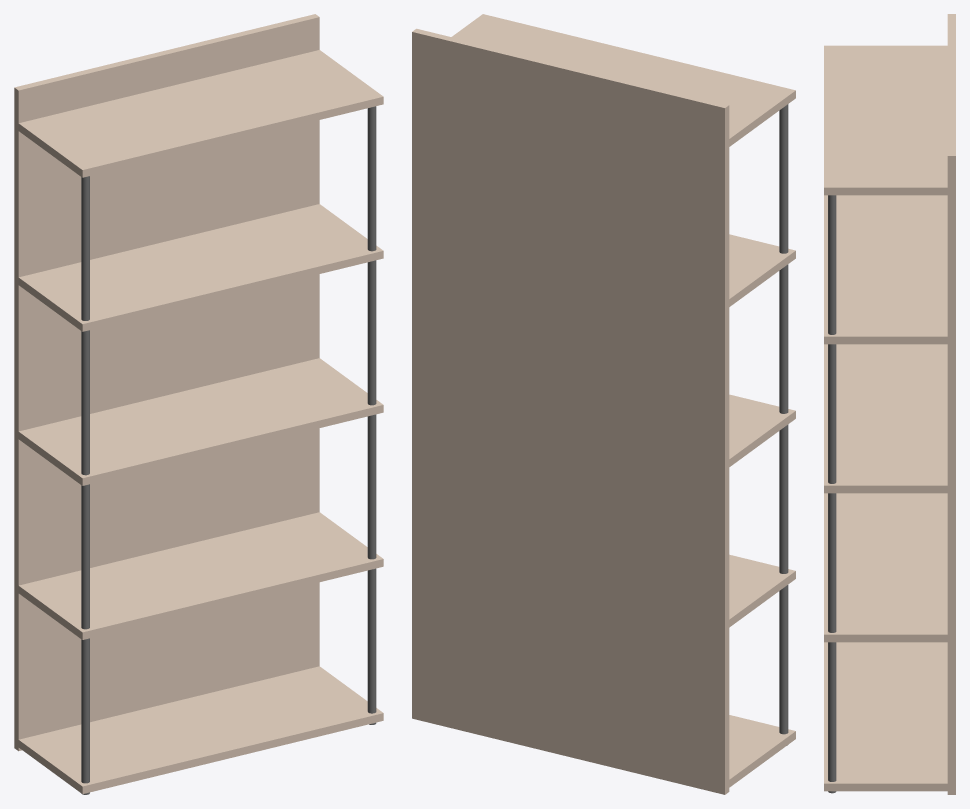
3 renders of one model, left to right at view 1: azimuth 30°, elevation 25°; view 2: azimuth 150°, elevation 25°; view 3: azimuth 270°, elevation 25°, orthographic. The views are drawn at different scales.
Visible parts, largest first — view 1: Body; view 2: Body; view 3: Body.
Boxes of the visible parts, bbox=[...] form: Body: bbox=[14, 14, 383, 794]; Body: bbox=[412, 14, 795, 794]; Body: bbox=[824, 14, 955, 794].
Size of the model in its own units: 0.818 by 1.72 by 0.321.
